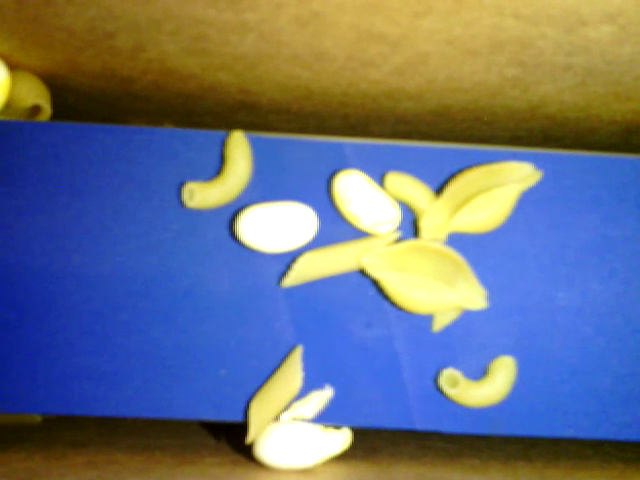elbow: (178, 129, 253, 210), (383, 171, 448, 244), (438, 354, 517, 407)
penne: (277, 233, 402, 288), (242, 341, 303, 444)
shell: (418, 155, 545, 239), (355, 240, 491, 312), (2, 69, 60, 124)
